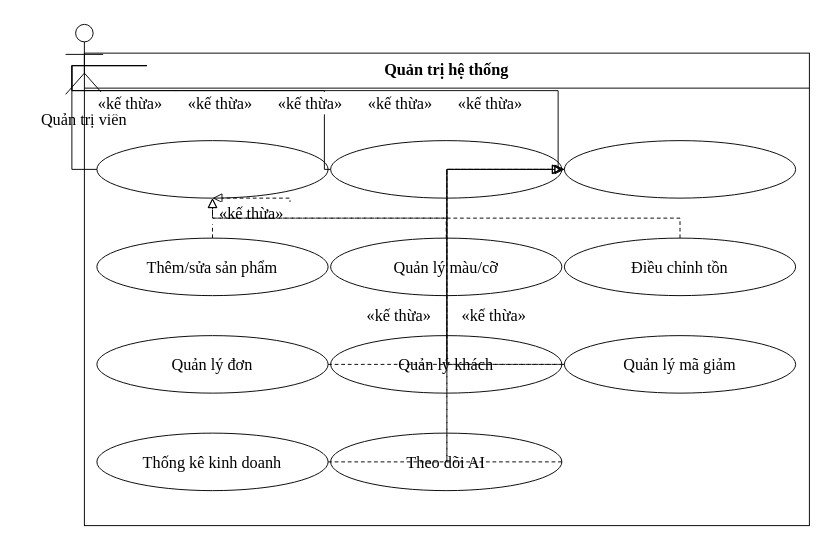
This 833x548 diagram has some shape labels left out. Here are the shapes that lost their labels. From the top down, the box of each, then its label:
(96, 140, 328, 198): UC34 Sản phẩm/tồn
(330, 140, 562, 198): UC35 Bán hàng
(563, 140, 796, 198): UC36 Phân tích/AI
